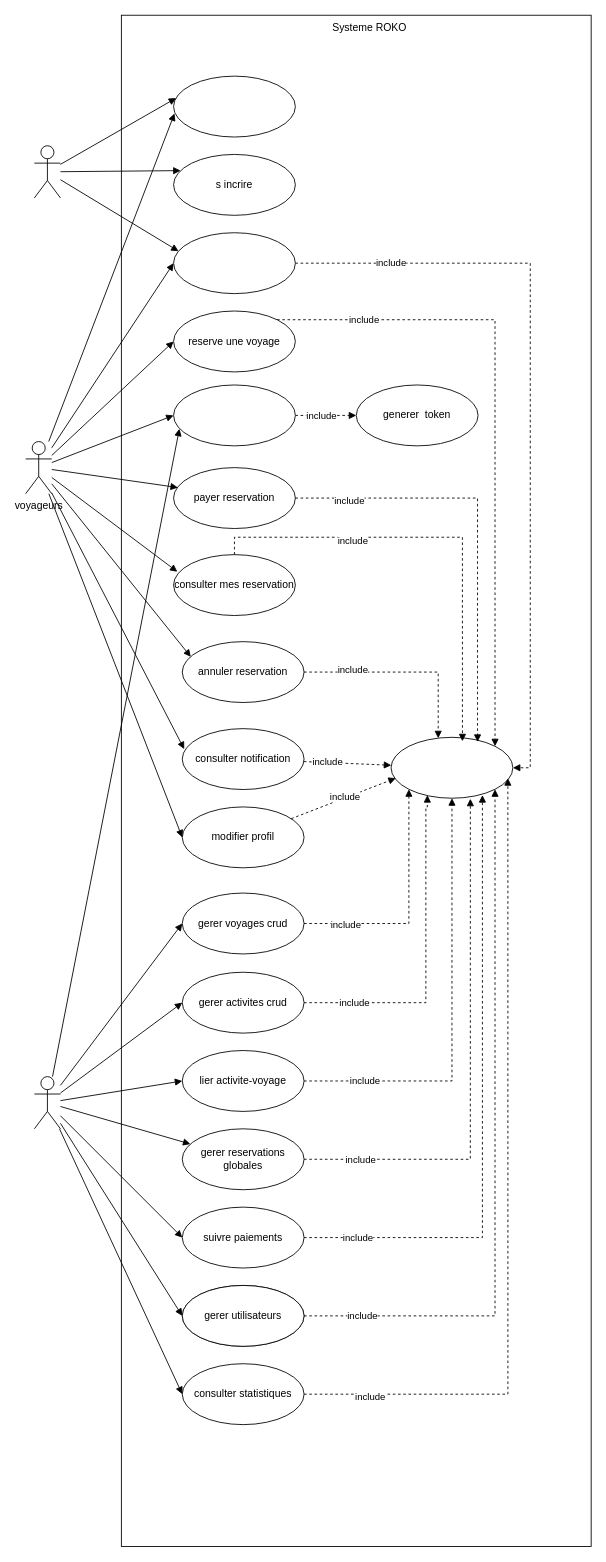
The diagram is 606 pixels wide and 1562 high, and some of its shapes have lost their labels. Here are the shapes that lost their labels. From the top down, the centre of each, then its label:
At (x=234, y=106): "Consulter voyages".
At (x=46, y=171): "visiteur".
At (x=234, y=263): "consulter activites".
At (x=234, y=415): "se connecter".
At (x=451, y=767): "Authentification".
At (x=46, y=1102): "admin".
